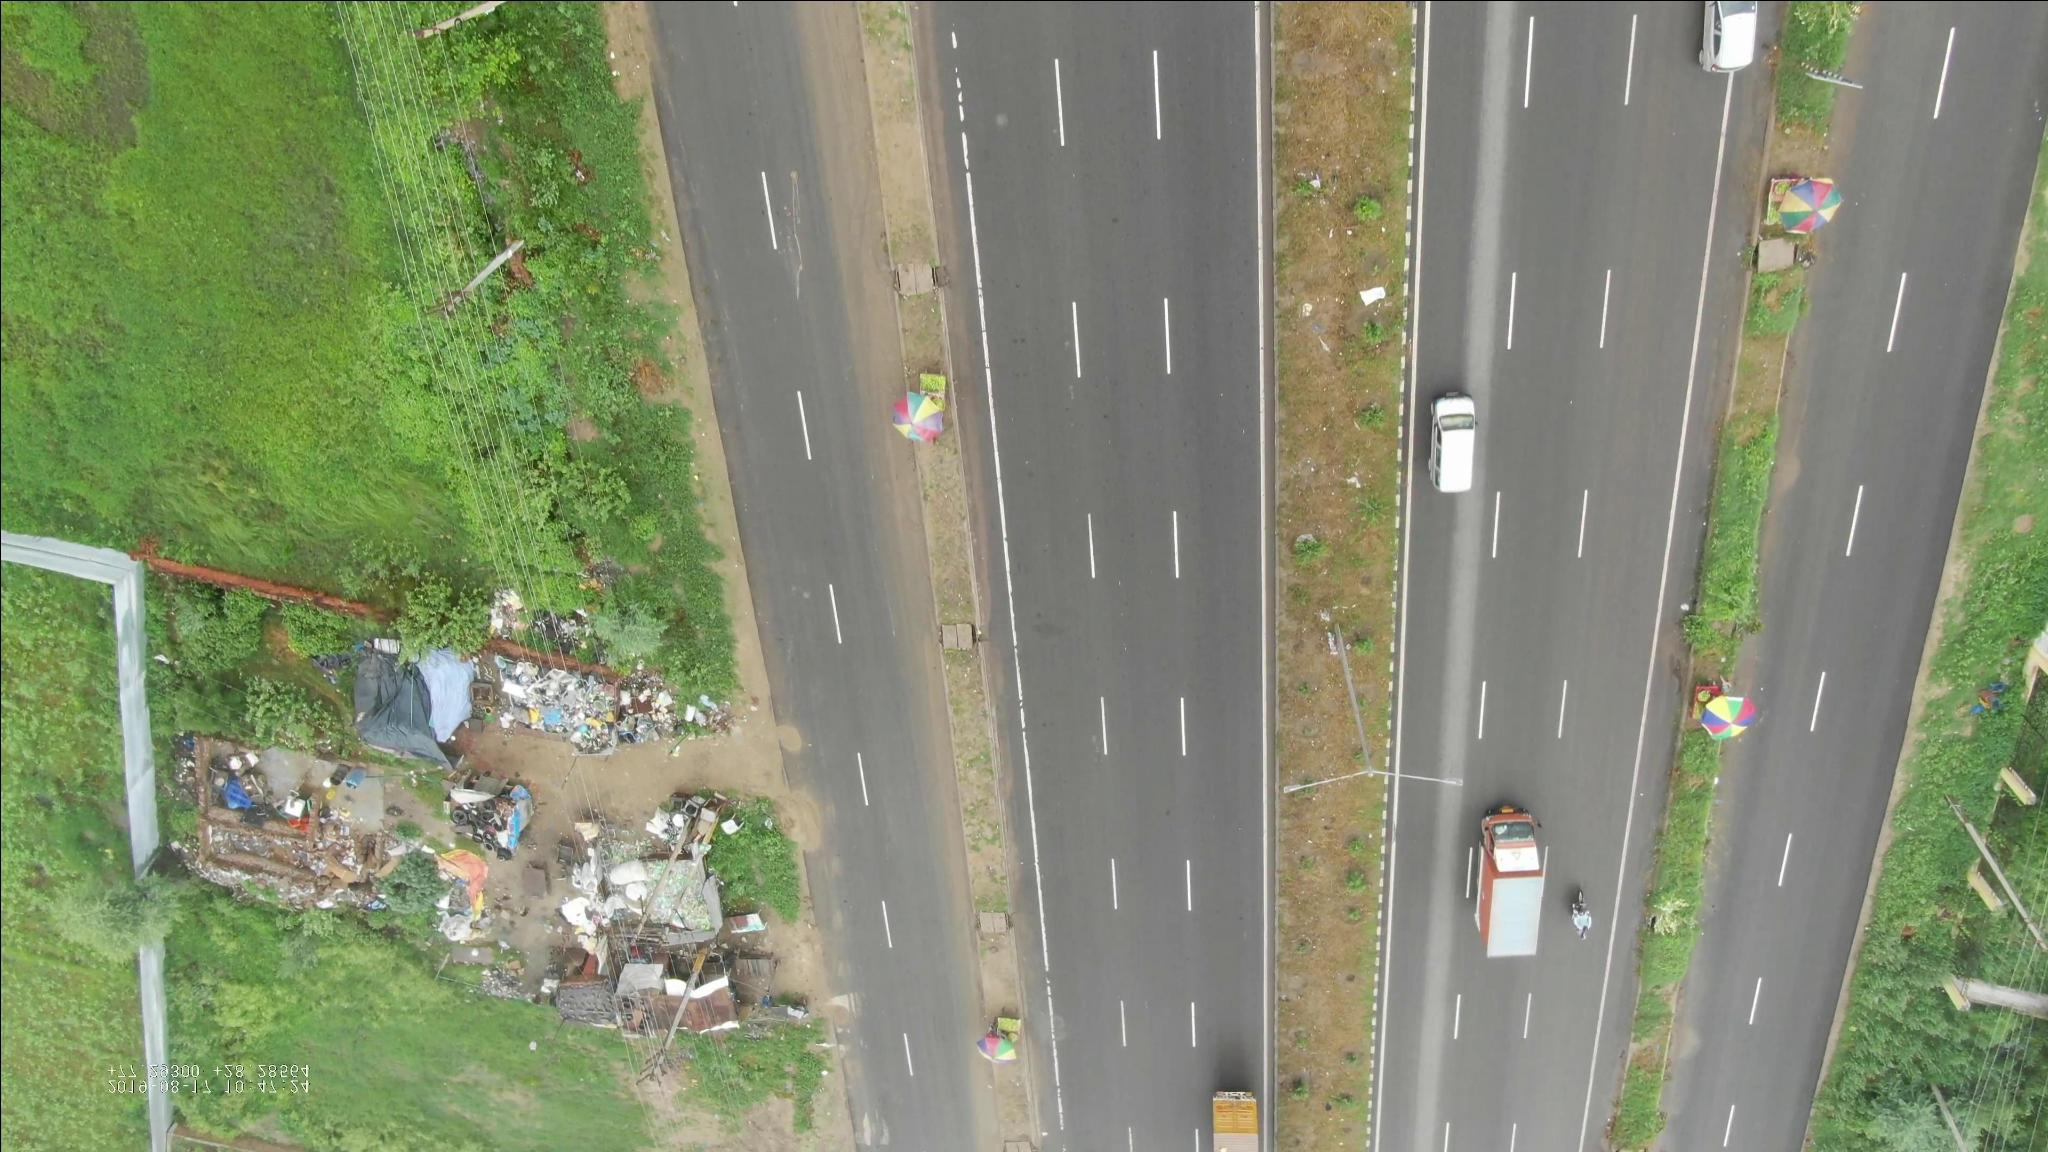Potholes: (1664, 653, 1687, 698)
